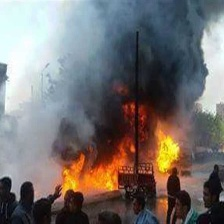fire: (58, 155, 126, 194), (158, 130, 180, 178)
smoke: (34, 1, 223, 134)
